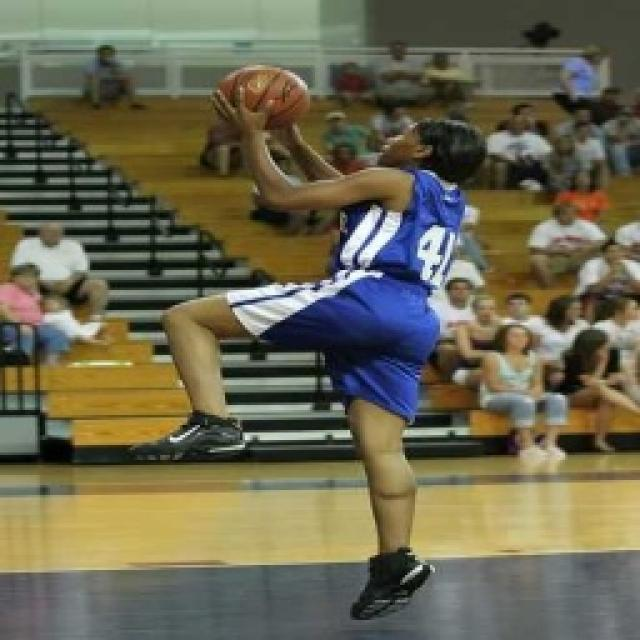rim: (222, 68, 310, 128)
